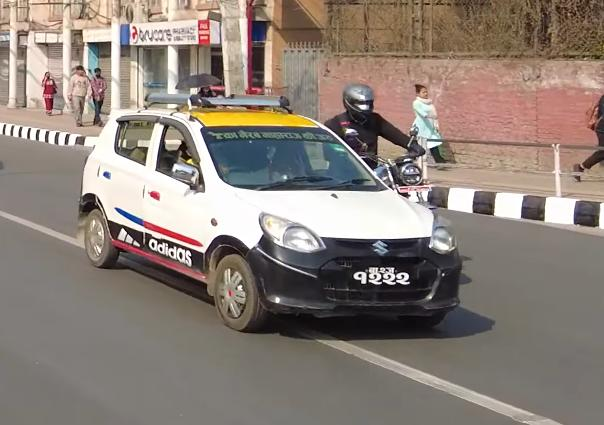taxi: (69, 85, 466, 339)
